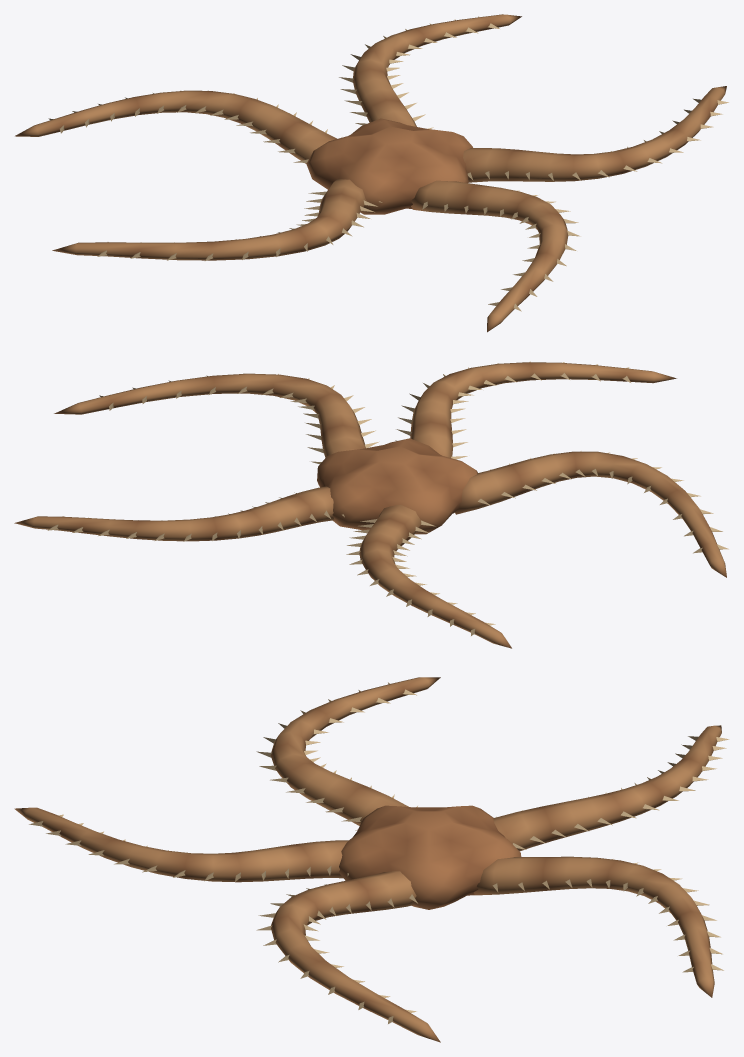
File: ProtasterinaFlexuosa.fbx
The picture shows the model from 3 angles, top to bottom: view 1: azimuth 30°, elevation 25°; view 2: azimuth 150°, elevation 25°; view 3: azimuth 270°, elevation 25°; orthographic projection. The views are drawn at different scales.
Parts seen in each view (by area): view 1: ProtasterinaFlexuosa; view 2: ProtasterinaFlexuosa; view 3: ProtasterinaFlexuosa.
Boxes of the visible parts, <box> form: ProtasterinaFlexuosa: <box>15,14,728,332</box>; ProtasterinaFlexuosa: <box>14,361,728,648</box>; ProtasterinaFlexuosa: <box>14,677,729,1042</box>.
Bounding box in the file's own units: 1.64 × 0.154 × 1.36.
